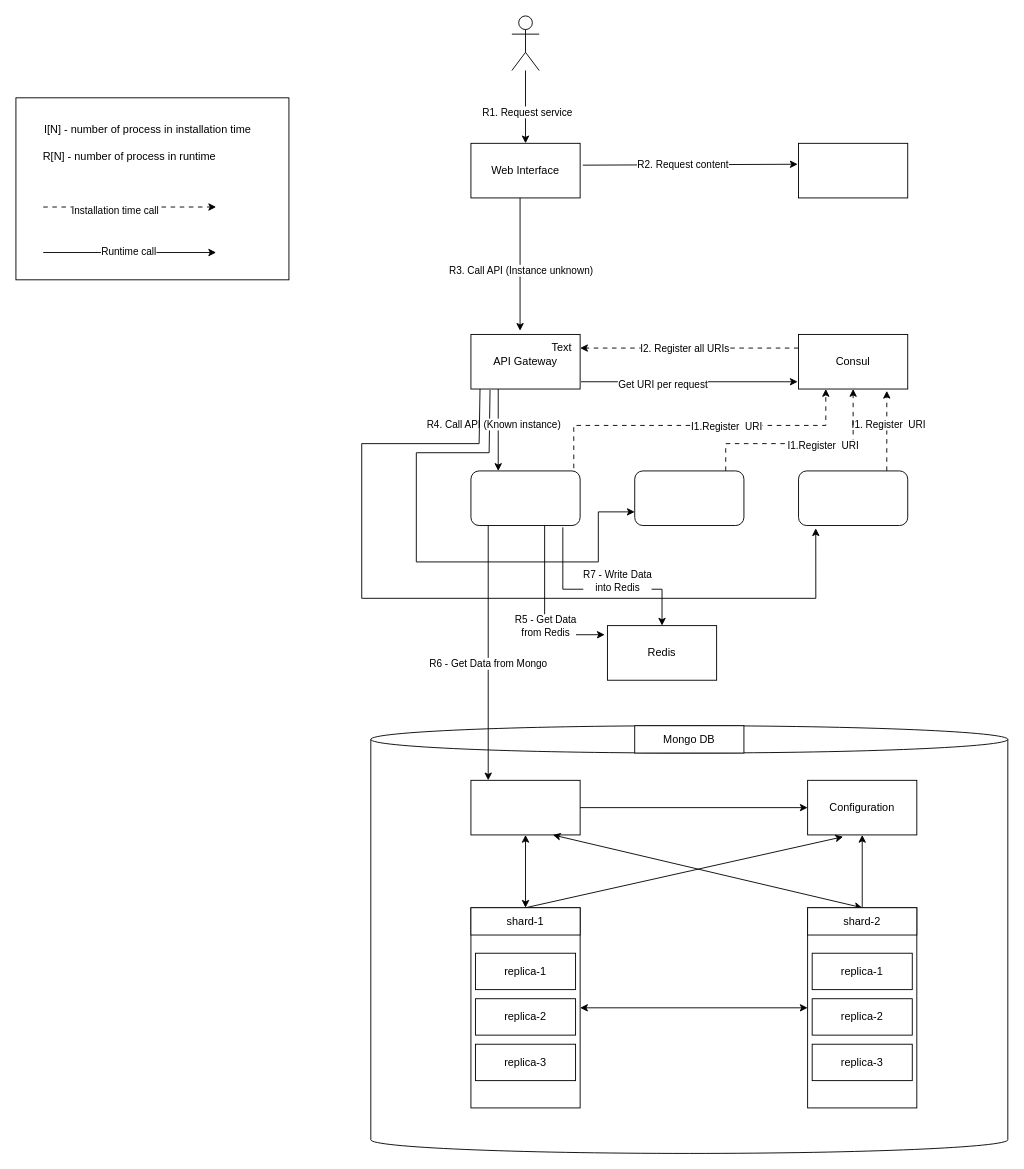
The diagram is 1024 pixels wide and 1169 high, and some of its shapes have lost their labels. The centre of each missing label's shape, as x and y in pixels:
"1. pymongo-api" goes at point 525,498.
"2. pymongo-api" goes at point 689,498.
"3. pymongo-api" goes at point 853,498.
"CDN" goes at point 853,170.
"Router" goes at point 525,807.
"User" goes at point 525,43.
